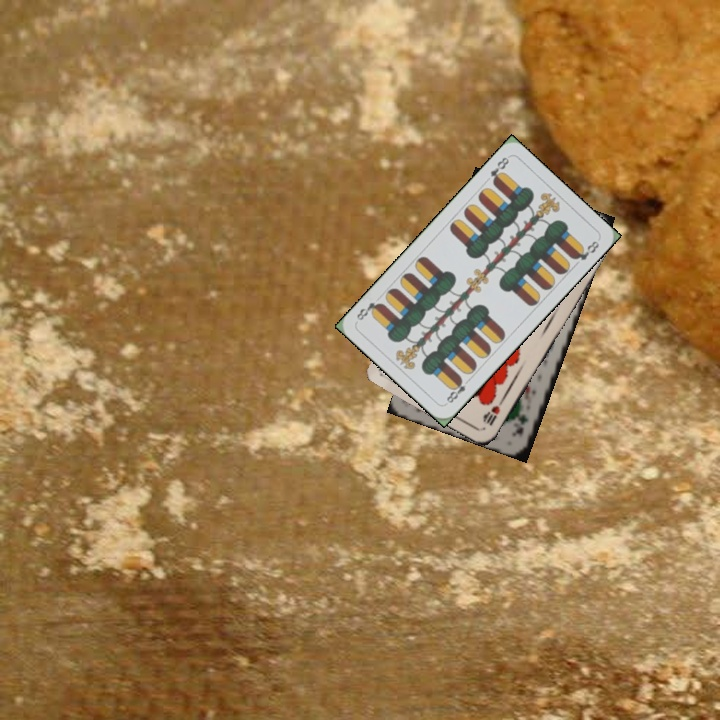E8: (442, 374, 473, 406), (486, 153, 512, 187)
GK: (510, 409, 531, 440)
H10: (480, 395, 506, 428)
